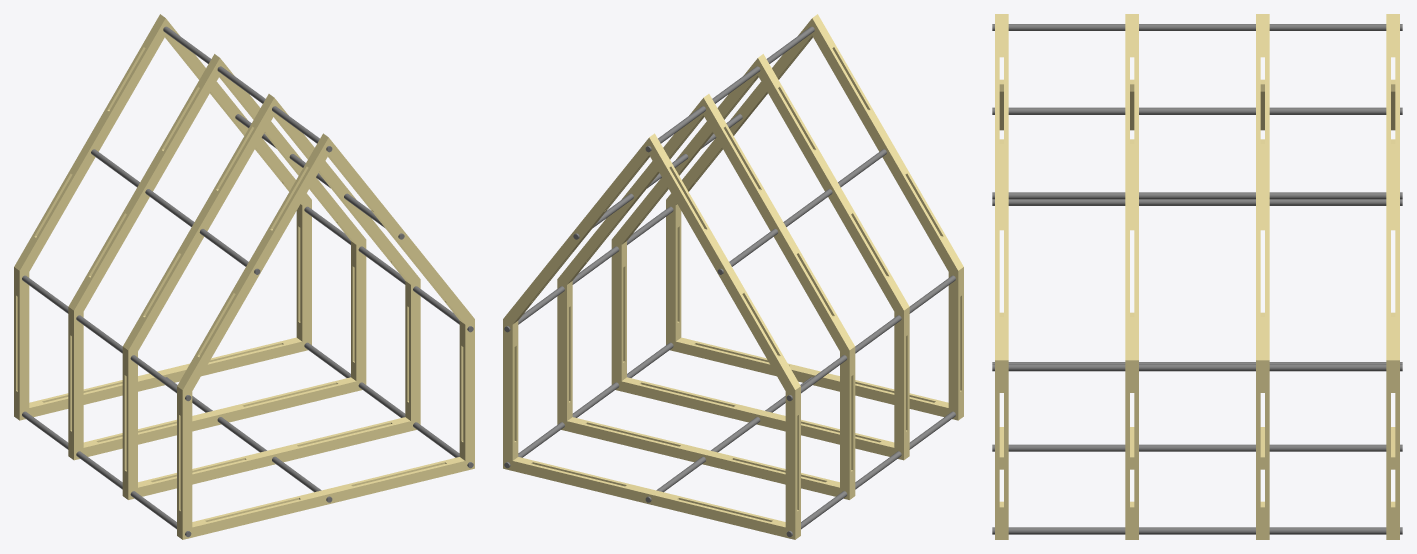
The picture shows the model from 3 angles, left to right: view 1: azimuth 30°, elevation 25°; view 2: azimuth 150°, elevation 25°; view 3: azimuth 270°, elevation 25°; orthographic projection. The views are drawn at different scales.
Parts seen in each view (by area): view 1: house_frame; view 2: house_frame; view 3: house_frame.
Part boxes in pixels (<box>): house_frame: <box>14,14,474,539</box>; house_frame: <box>503,14,963,539</box>; house_frame: <box>992,14,1402,539</box>.
Bounding box in the file's own units: 2.5 × 3 × 2.53.
